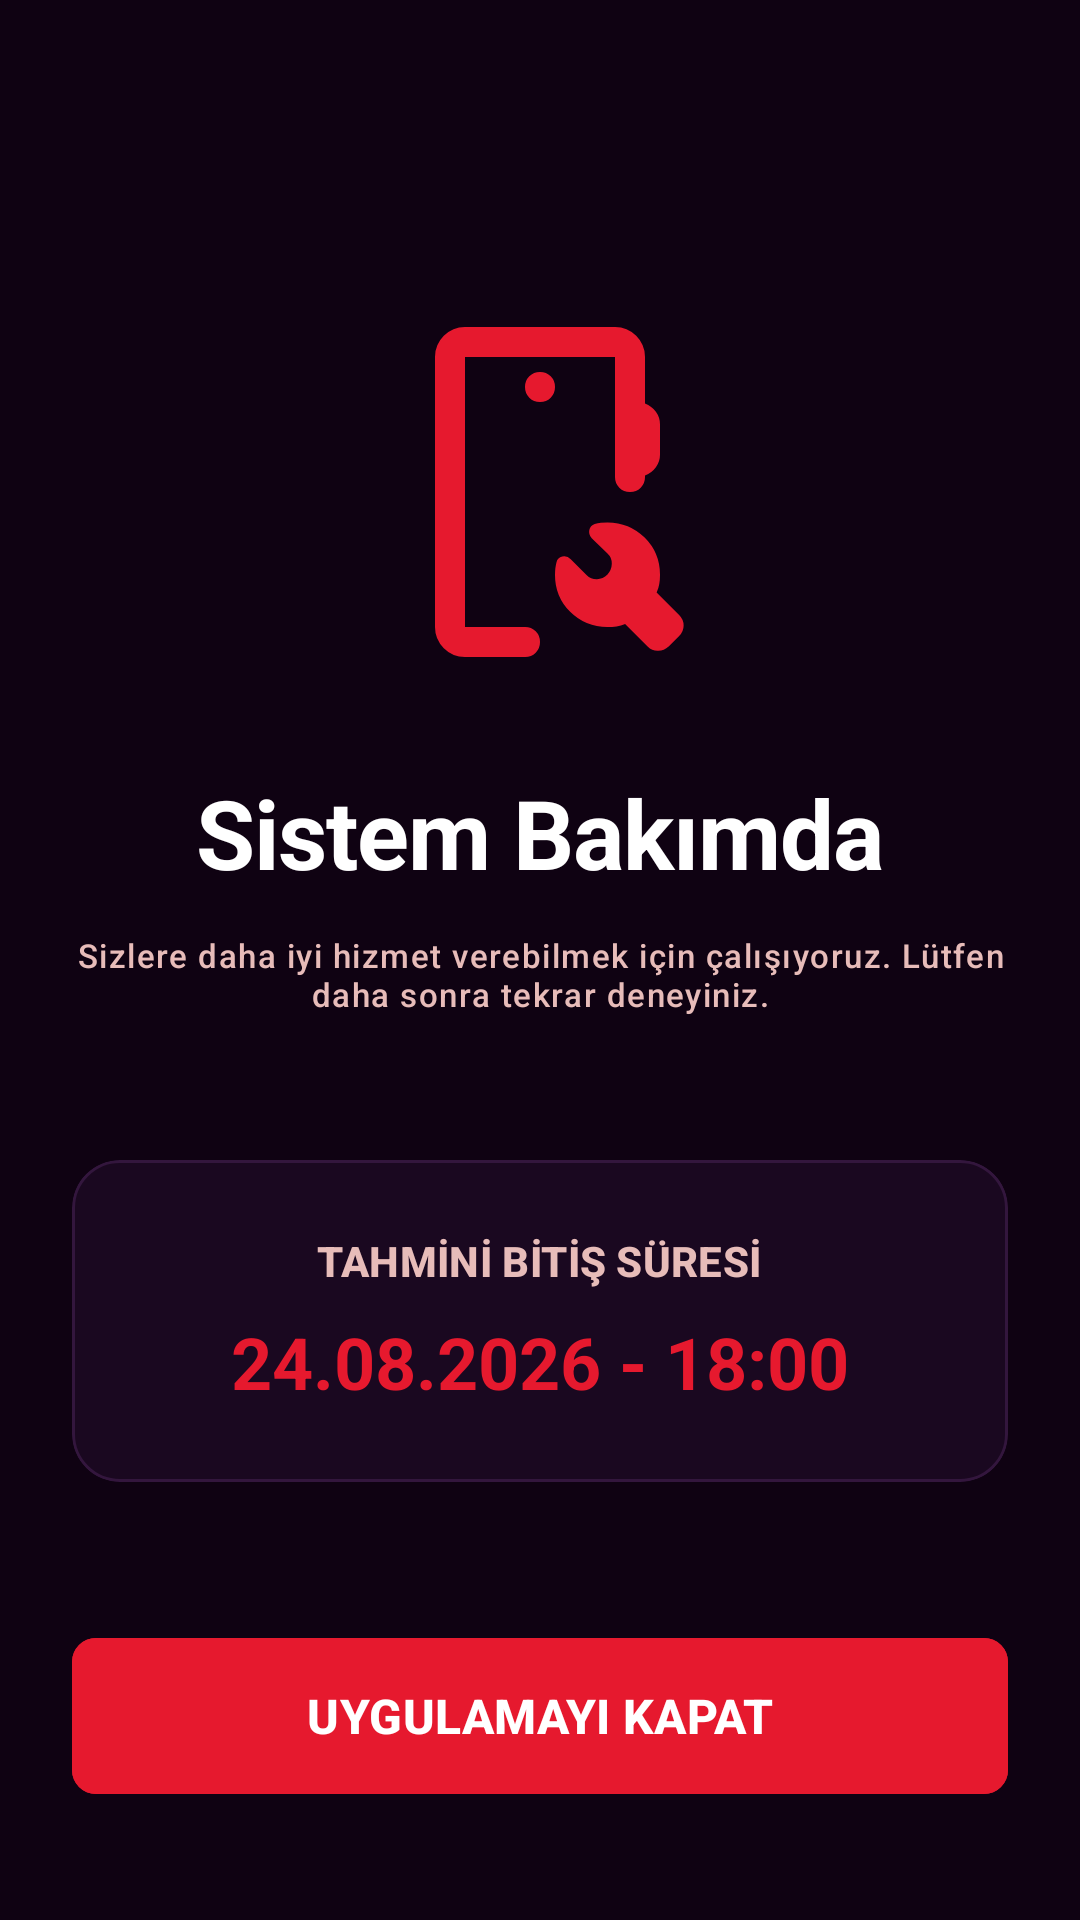

Named icons in this screenshot (1080x1920) and their centers, (x=x, y=y):
maintenance: (x=559, y=492)
